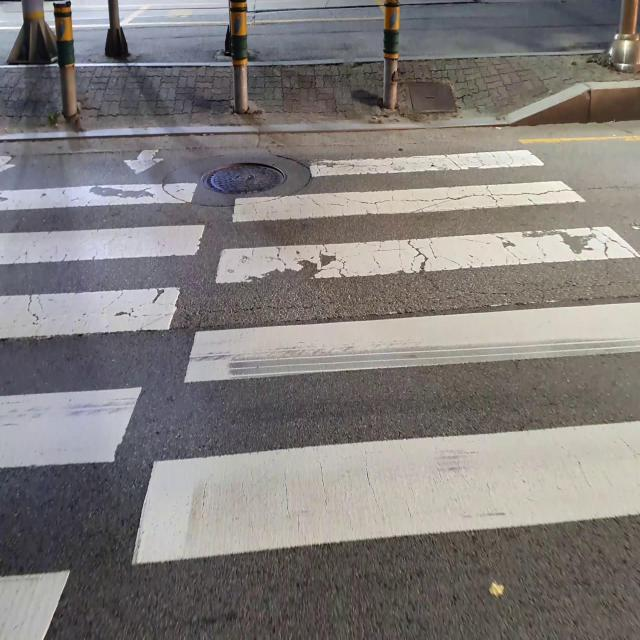crosswalk: (0, 142, 638, 638)
